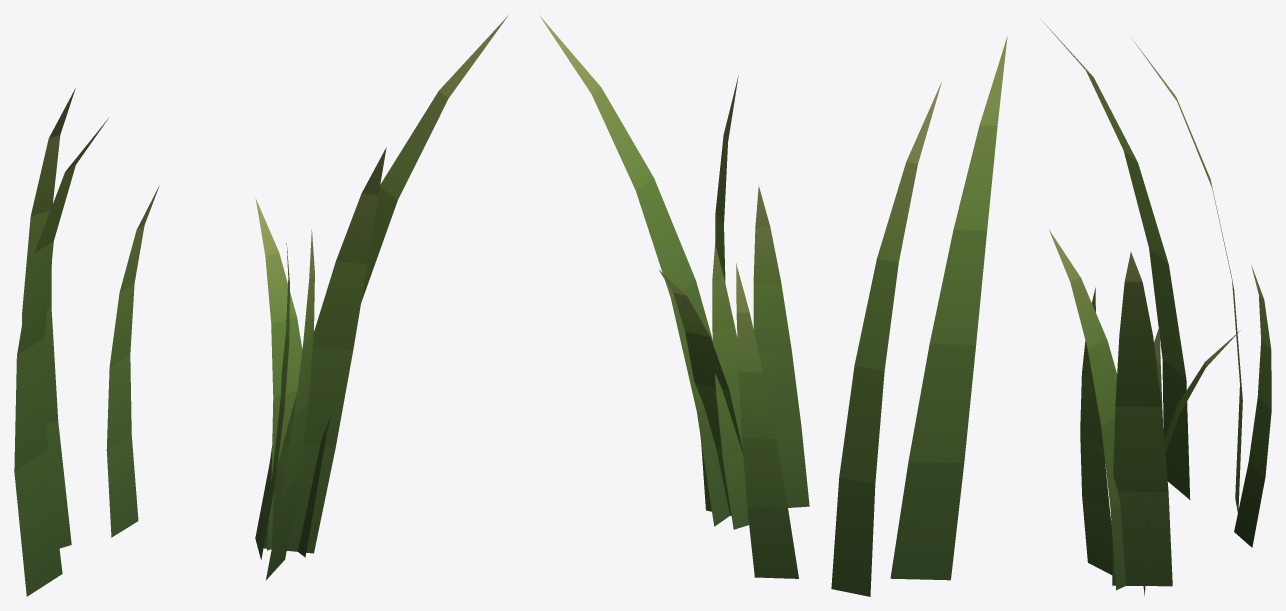
Rendered from grass_clump_d.glb.
The picture shows the model from 3 angles, left to right: view 1: azimuth 30°, elevation 25°; view 2: azimuth 150°, elevation 25°; view 3: azimuth 270°, elevation 25°; orthographic projection. The views are drawn at different scales.
Visible parts, largest first — view 1: grass_clump_d; view 2: grass_clump_d; view 3: grass_clump_d.
Boxes of the visible parts, <box> form: grass_clump_d: <box>14,15,508,596</box>; grass_clump_d: <box>539,15,1007,596</box>; grass_clump_d: <box>1041,19,1271,595</box>.
Bounding box in the file's own units: 0.4746 × 0.5 × 0.2274.
